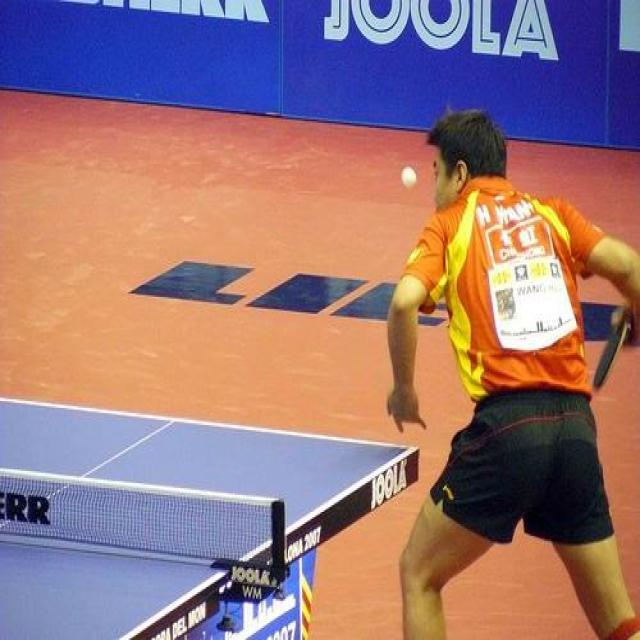ping-pong-ball: (402, 166, 417, 188)
